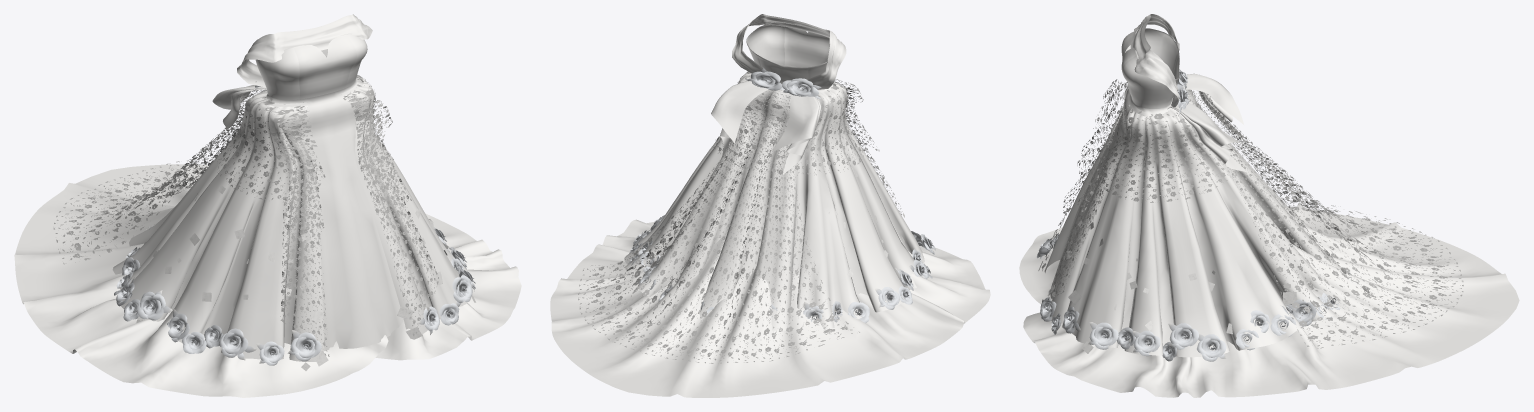
3 views of the same model, side by side, from view 1: azimuth 30°, elevation 25°; view 2: azimuth 150°, elevation 25°; view 3: azimuth 270°, elevation 25° (orthographic). The views are drawn at different scales.
Visible parts, largest first — view 1: Object_8, Object_12, Object_4, Object_6, Object_10; view 2: Object_12, Object_8, Object_10, Object_4, Object_6, Object_16; view 3: Object_8, Object_12, Object_10, Object_4, Object_6.
Part boxes in pixels (x1,y1,x2,y2): Object_8: (112, 74, 467, 361); Object_12: (14, 164, 521, 397); Object_4: (215, 33, 438, 356); Object_6: (114, 184, 475, 370); Object_10: (53, 14, 372, 264); Object_12: (550, 219, 990, 397); Object_8: (624, 73, 924, 330); Object_10: (578, 14, 859, 363); Object_4: (713, 22, 902, 214); Object_6: (627, 170, 935, 322); Object_16: (745, 67, 821, 98); Object_8: (1044, 87, 1347, 357); Object_12: (1019, 202, 1519, 397); Object_10: (1130, 14, 1463, 348); Object_4: (1042, 28, 1243, 300); Object_6: (1037, 172, 1350, 361).
Bounding box in the file's own units: 2.13 × 1.42 × 2.34.
5 materials, 5 textured.
